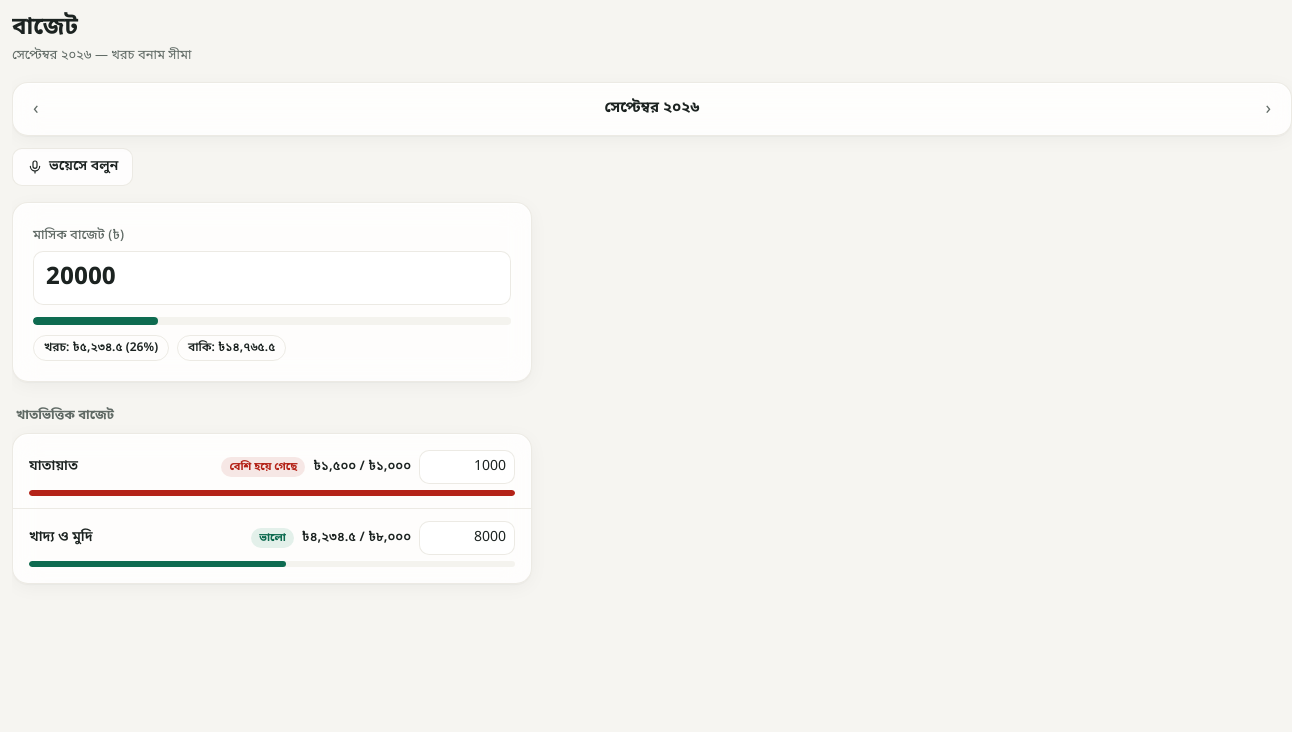
Test case: Budget screen › editing the monthly limit PUTs {total} and refreshes the chips
The width and height of the screenshot is (1292, 732).
Replace the text in the field labelled "মাসিক বাজেট (৳)" with "25000" at x=272, y=278, box [33,250,511,304]
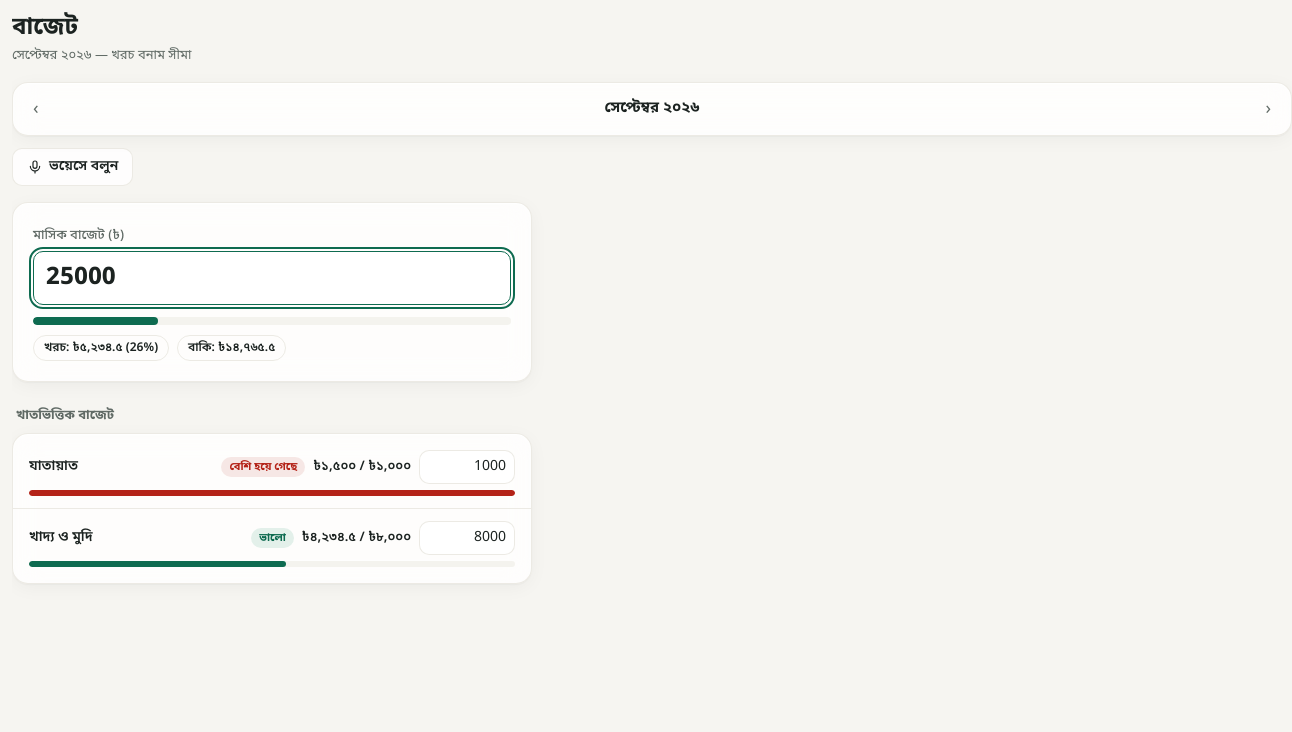
Press Tab
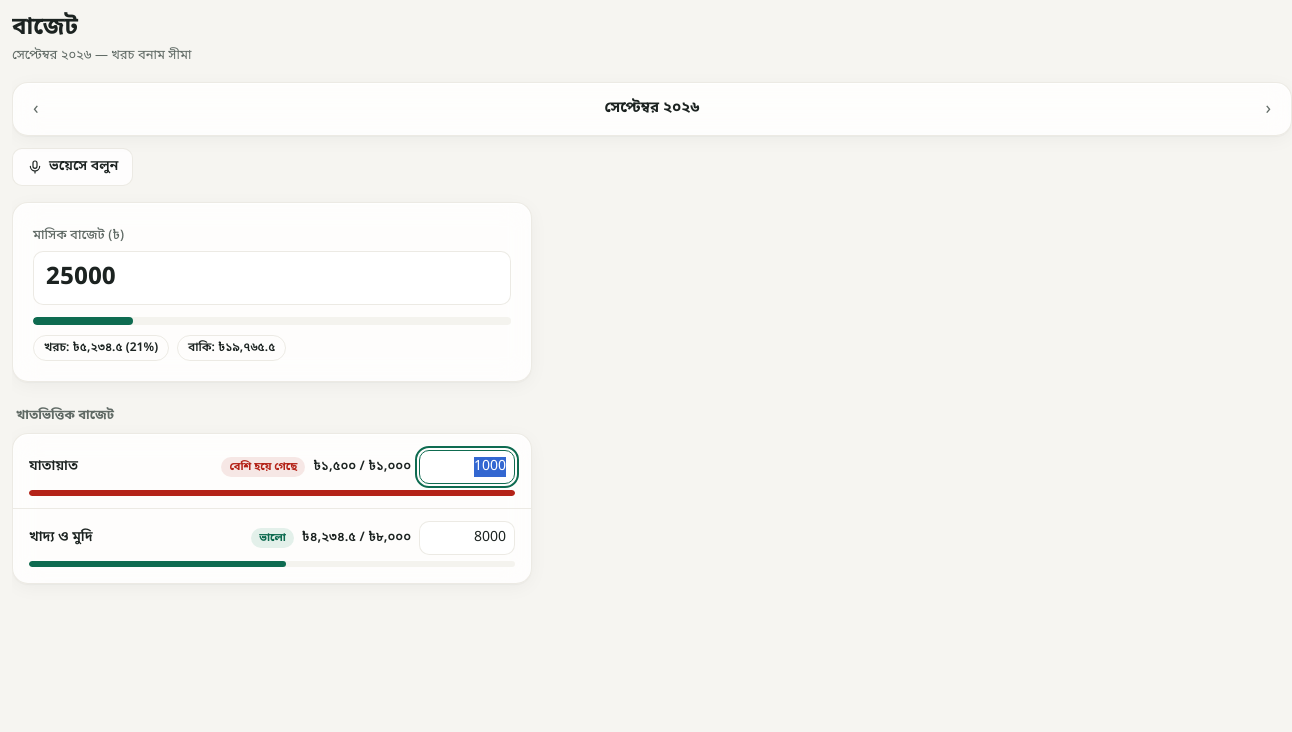
Expected: the text "বাকি: ৳১৯,৭৬৫.৫" is shown, [177,334,286,360]
